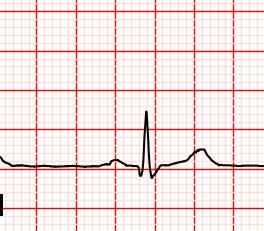LVH: (176, 146, 225, 169)
